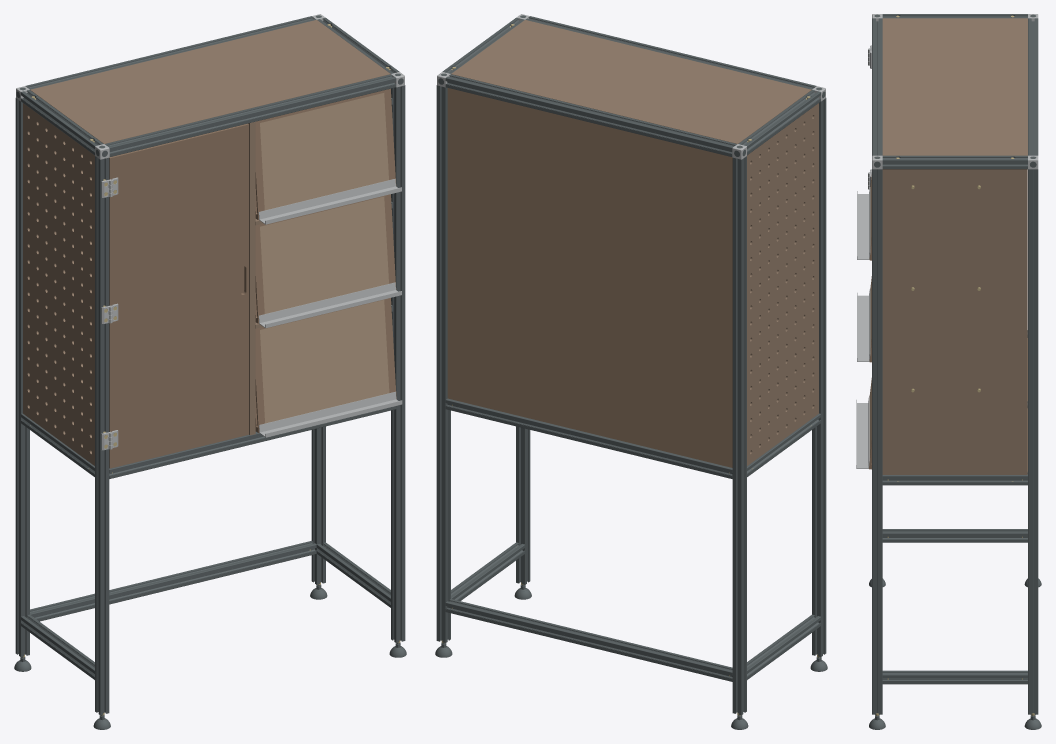
The model's file is cabinet-0.glb.
3 renders of one model, left to right at view 1: azimuth 30°, elevation 25°; view 2: azimuth 150°, elevation 25°; view 3: azimuth 270°, elevation 25°, orthographic.
Visible parts, largest first — view 1: Left-door-face-18, Left-pegboard-18, Top-18, Plywood-infill-6-1, Plywood-infill-6-2, Plywood-infill-6-3, Post-4-23, Post-966-23, Post-4-470, Beam-top-front, Beam-lower-rear, Beam-body-front (+17 smaller); view 2: Back-infill-8, Left-pegboard-18, Top-18, Post-4-470, Post-966-470, Post-4-23, Beam-top-rear, Beam-lower-rear, Beam-body-rear, Post-966-23, Beam-top-front, Beam-top-side-4 (+4 smaller); view 3: Right-wall-18, Top-18, Post-966-23, Post-966-470, Beam-lower-side-966, Beam-top-side-966, Beam-lower-side-4, Beam-body-side-966, Beam-top-rear, Beam-top-front, Display-ledge-2, Display-ledge-1 (+2 smaller).
Part boxes in pixels (x1=…): Left-door-face-18: x1=109, y1=123, x2=248, y2=468; Left-pegboard-18: x1=23, y1=103, x2=94, y2=465; Top-18: x1=30, y1=20, x2=390, y2=143; Plywood-infill-6-1: x1=260, y1=300, x2=389, y2=423; Plywood-infill-6-2: x1=260, y1=196, x2=388, y2=313; Plywood-infill-6-3: x1=260, y1=93, x2=388, y2=210; Post-4-23: x1=95, y1=156, x2=109, y2=715; Post-966-23: x1=391, y1=85, x2=405, y2=642; Post-4-470: x1=15, y1=98, x2=29, y2=656; Beam-top-front: x1=104, y1=74, x2=396, y2=156; Beam-lower-rear: x1=30, y1=541, x2=316, y2=621; Beam-body-front: x1=109, y1=406, x2=396, y2=478; Back-infill-8: x1=447, y1=88, x2=732, y2=467; Left-pegboard-18: x1=747, y1=103, x2=818, y2=465; Top-18: x1=451, y1=20, x2=811, y2=143; Post-4-470: x1=732, y1=156, x2=746, y2=715; Post-966-470: x1=436, y1=85, x2=450, y2=642; Post-4-23: x1=812, y1=98, x2=826, y2=656; Beam-top-rear: x1=445, y1=74, x2=737, y2=156; Beam-lower-rear: x1=445, y1=599, x2=732, y2=681; Beam-body-rear: x1=445, y1=398, x2=732, y2=478; Post-966-23: x1=516, y1=426, x2=530, y2=584; Beam-top-front: x1=525, y1=16, x2=816, y2=89; Beam-top-side-4: x1=738, y1=90, x2=820, y2=155; Right-wall-18: x1=882, y1=169, x2=1027, y2=474; Top-18: x1=882, y1=18, x2=1027, y2=155; Post-966-23: x1=872, y1=169, x2=882, y2=714; Post-966-470: x1=1028, y1=169, x2=1038, y2=714; Beam-lower-side-966: x1=882, y1=670, x2=1027, y2=684; Beam-top-side-966: x1=882, y1=155, x2=1027, y2=169; Beam-lower-side-4: x1=882, y1=529, x2=1027, y2=542; Beam-body-side-966: x1=882, y1=472, x2=1027, y2=485; Beam-top-rear: x1=1028, y1=18, x2=1038, y2=155; Beam-top-front: x1=872, y1=18, x2=882, y2=155; Display-ledge-2: x1=857, y1=289, x2=870, y2=361; Display-ledge-1: x1=856, y1=396, x2=869, y2=468.
Size of the model in its own units: 1.01 by 1.8 by 0.5317.
